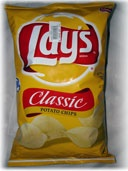grozi_51: (0, 0, 128, 170)
